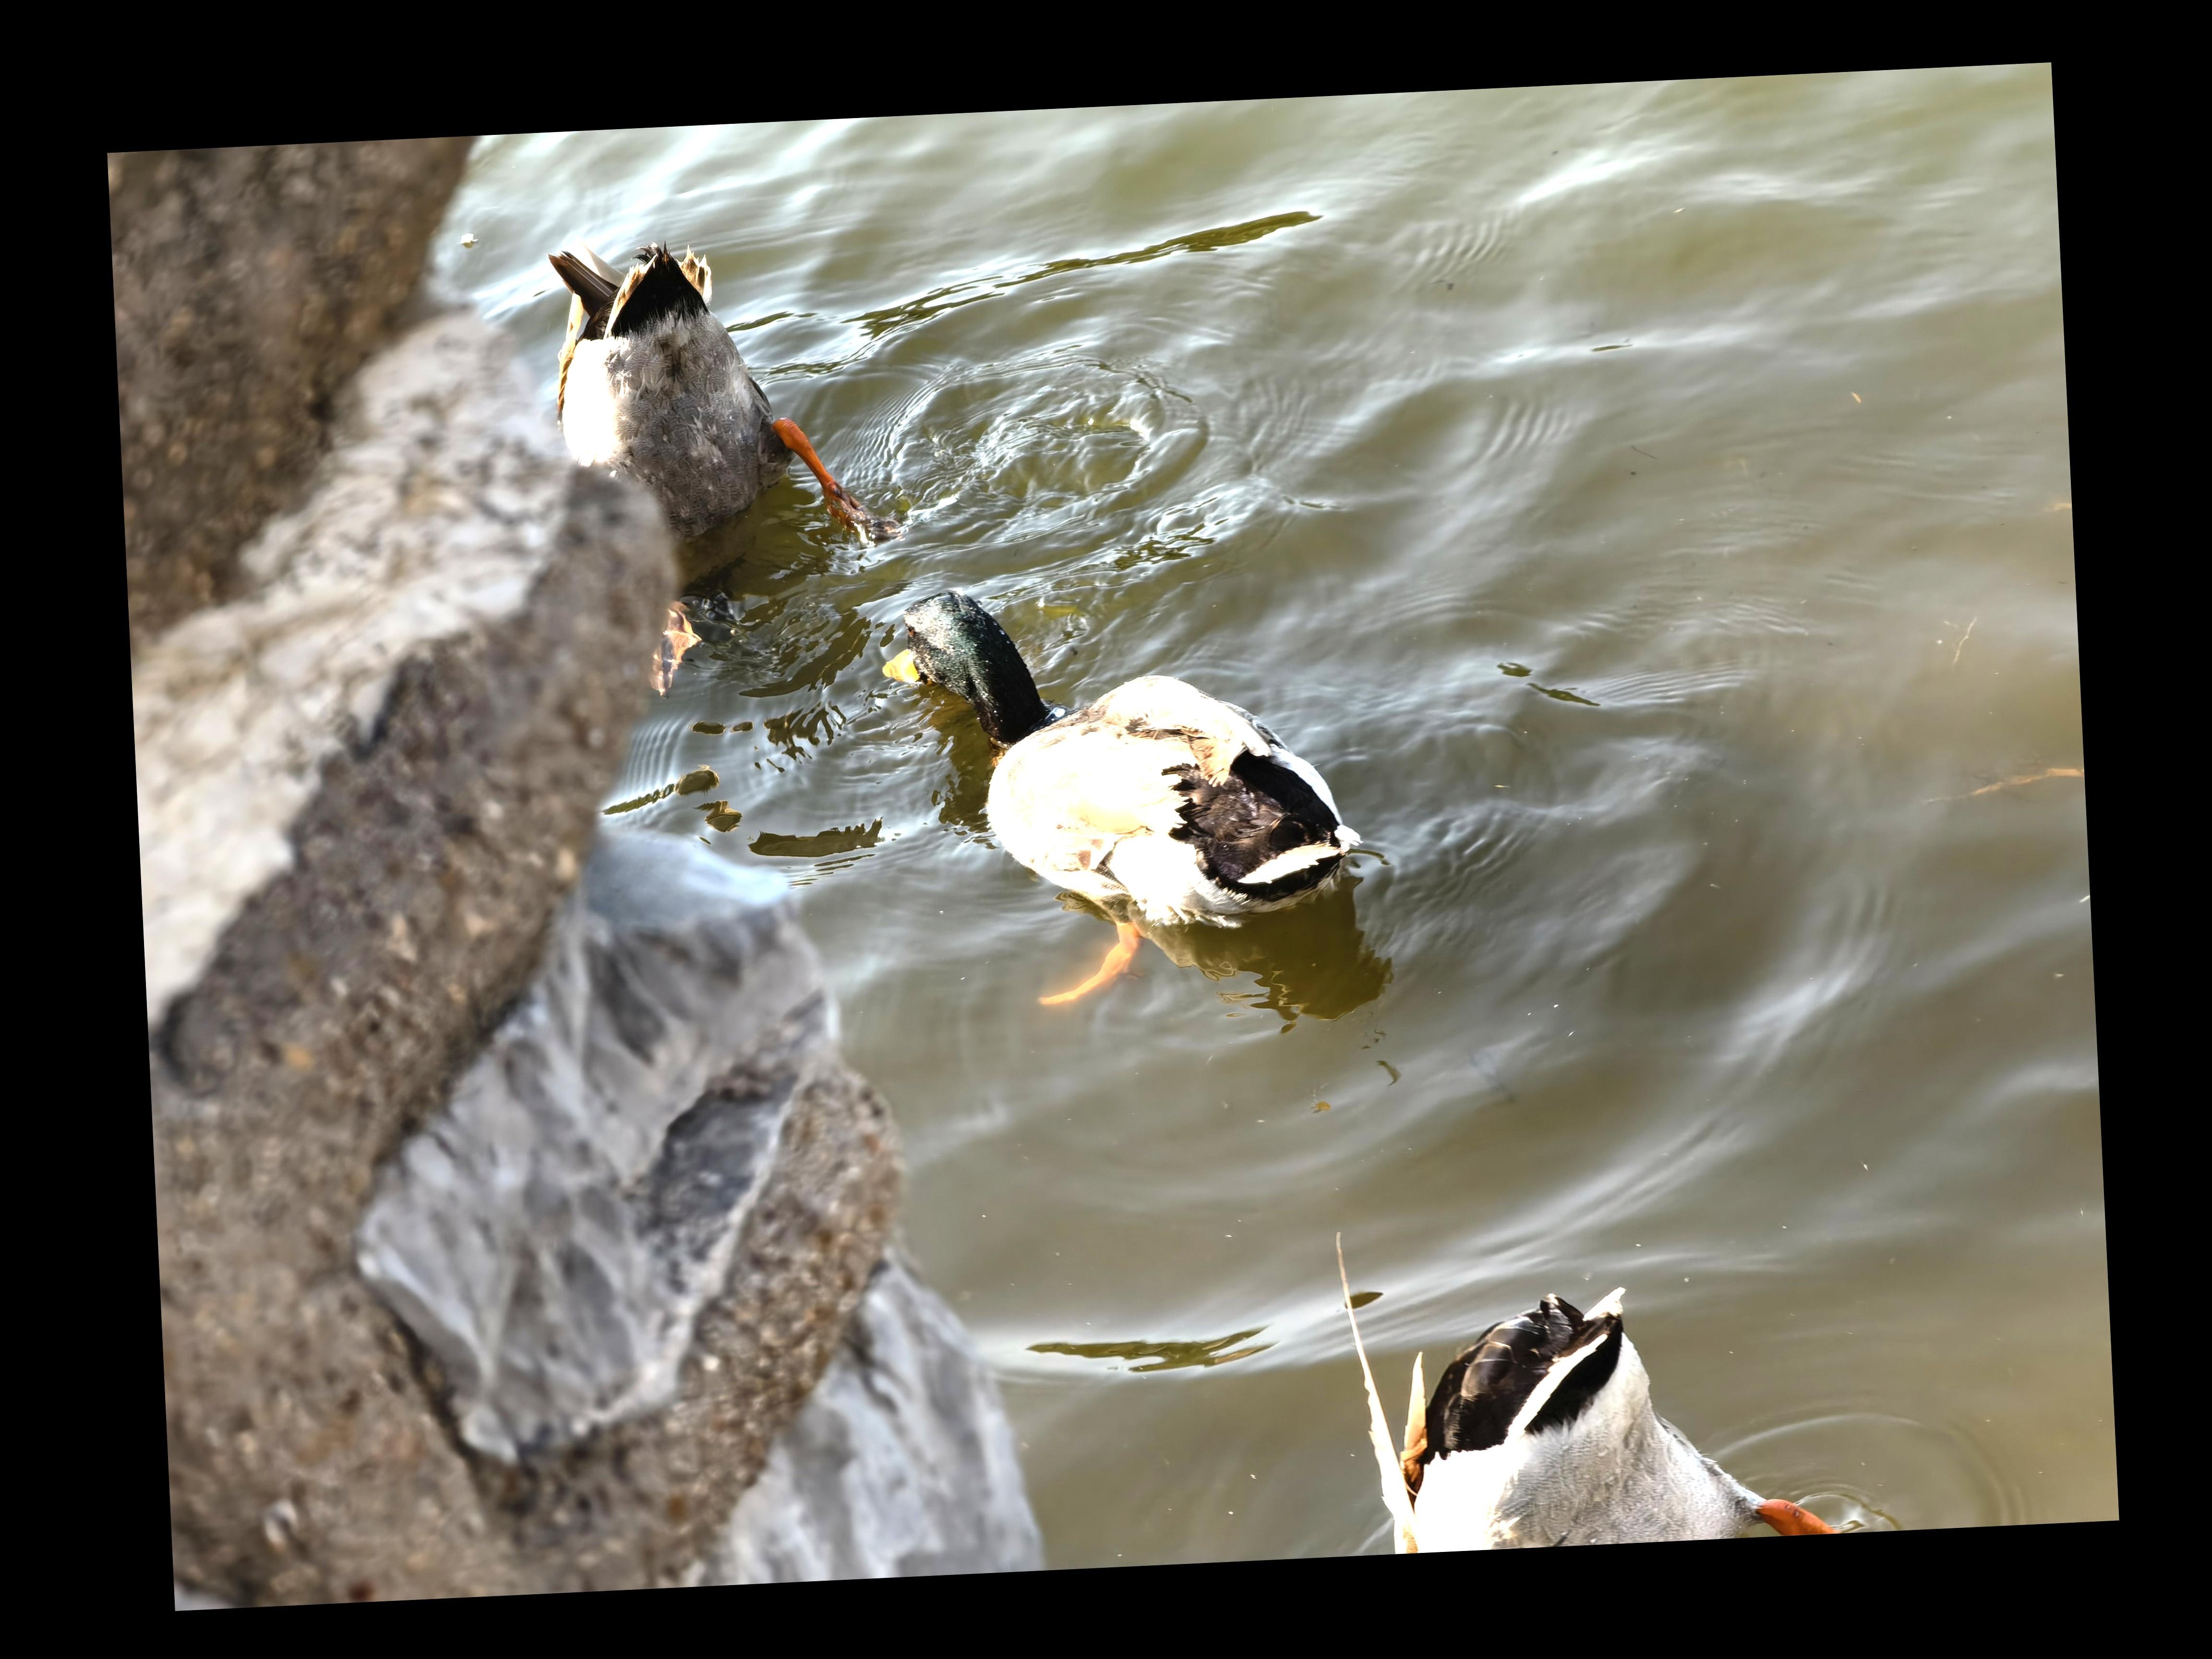duck: (869, 566, 1430, 1000), (1299, 1197, 1909, 1558), (512, 221, 911, 662)
